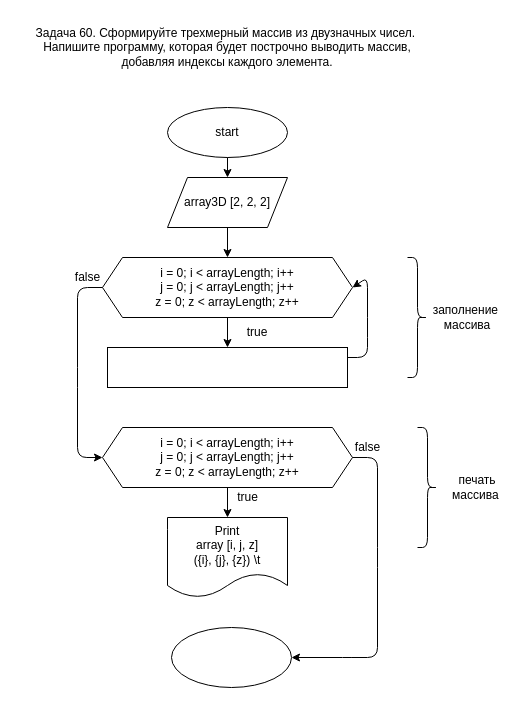
Image size: 524x705. Some labels were removed from this diagram. The shapes that lost their labels are listed below. From the top down, each one's centre as x and y in pixels, then its label:
the point at 227,367: array [i, j, z] = Random (10,99)
the point at 231,657: finish
